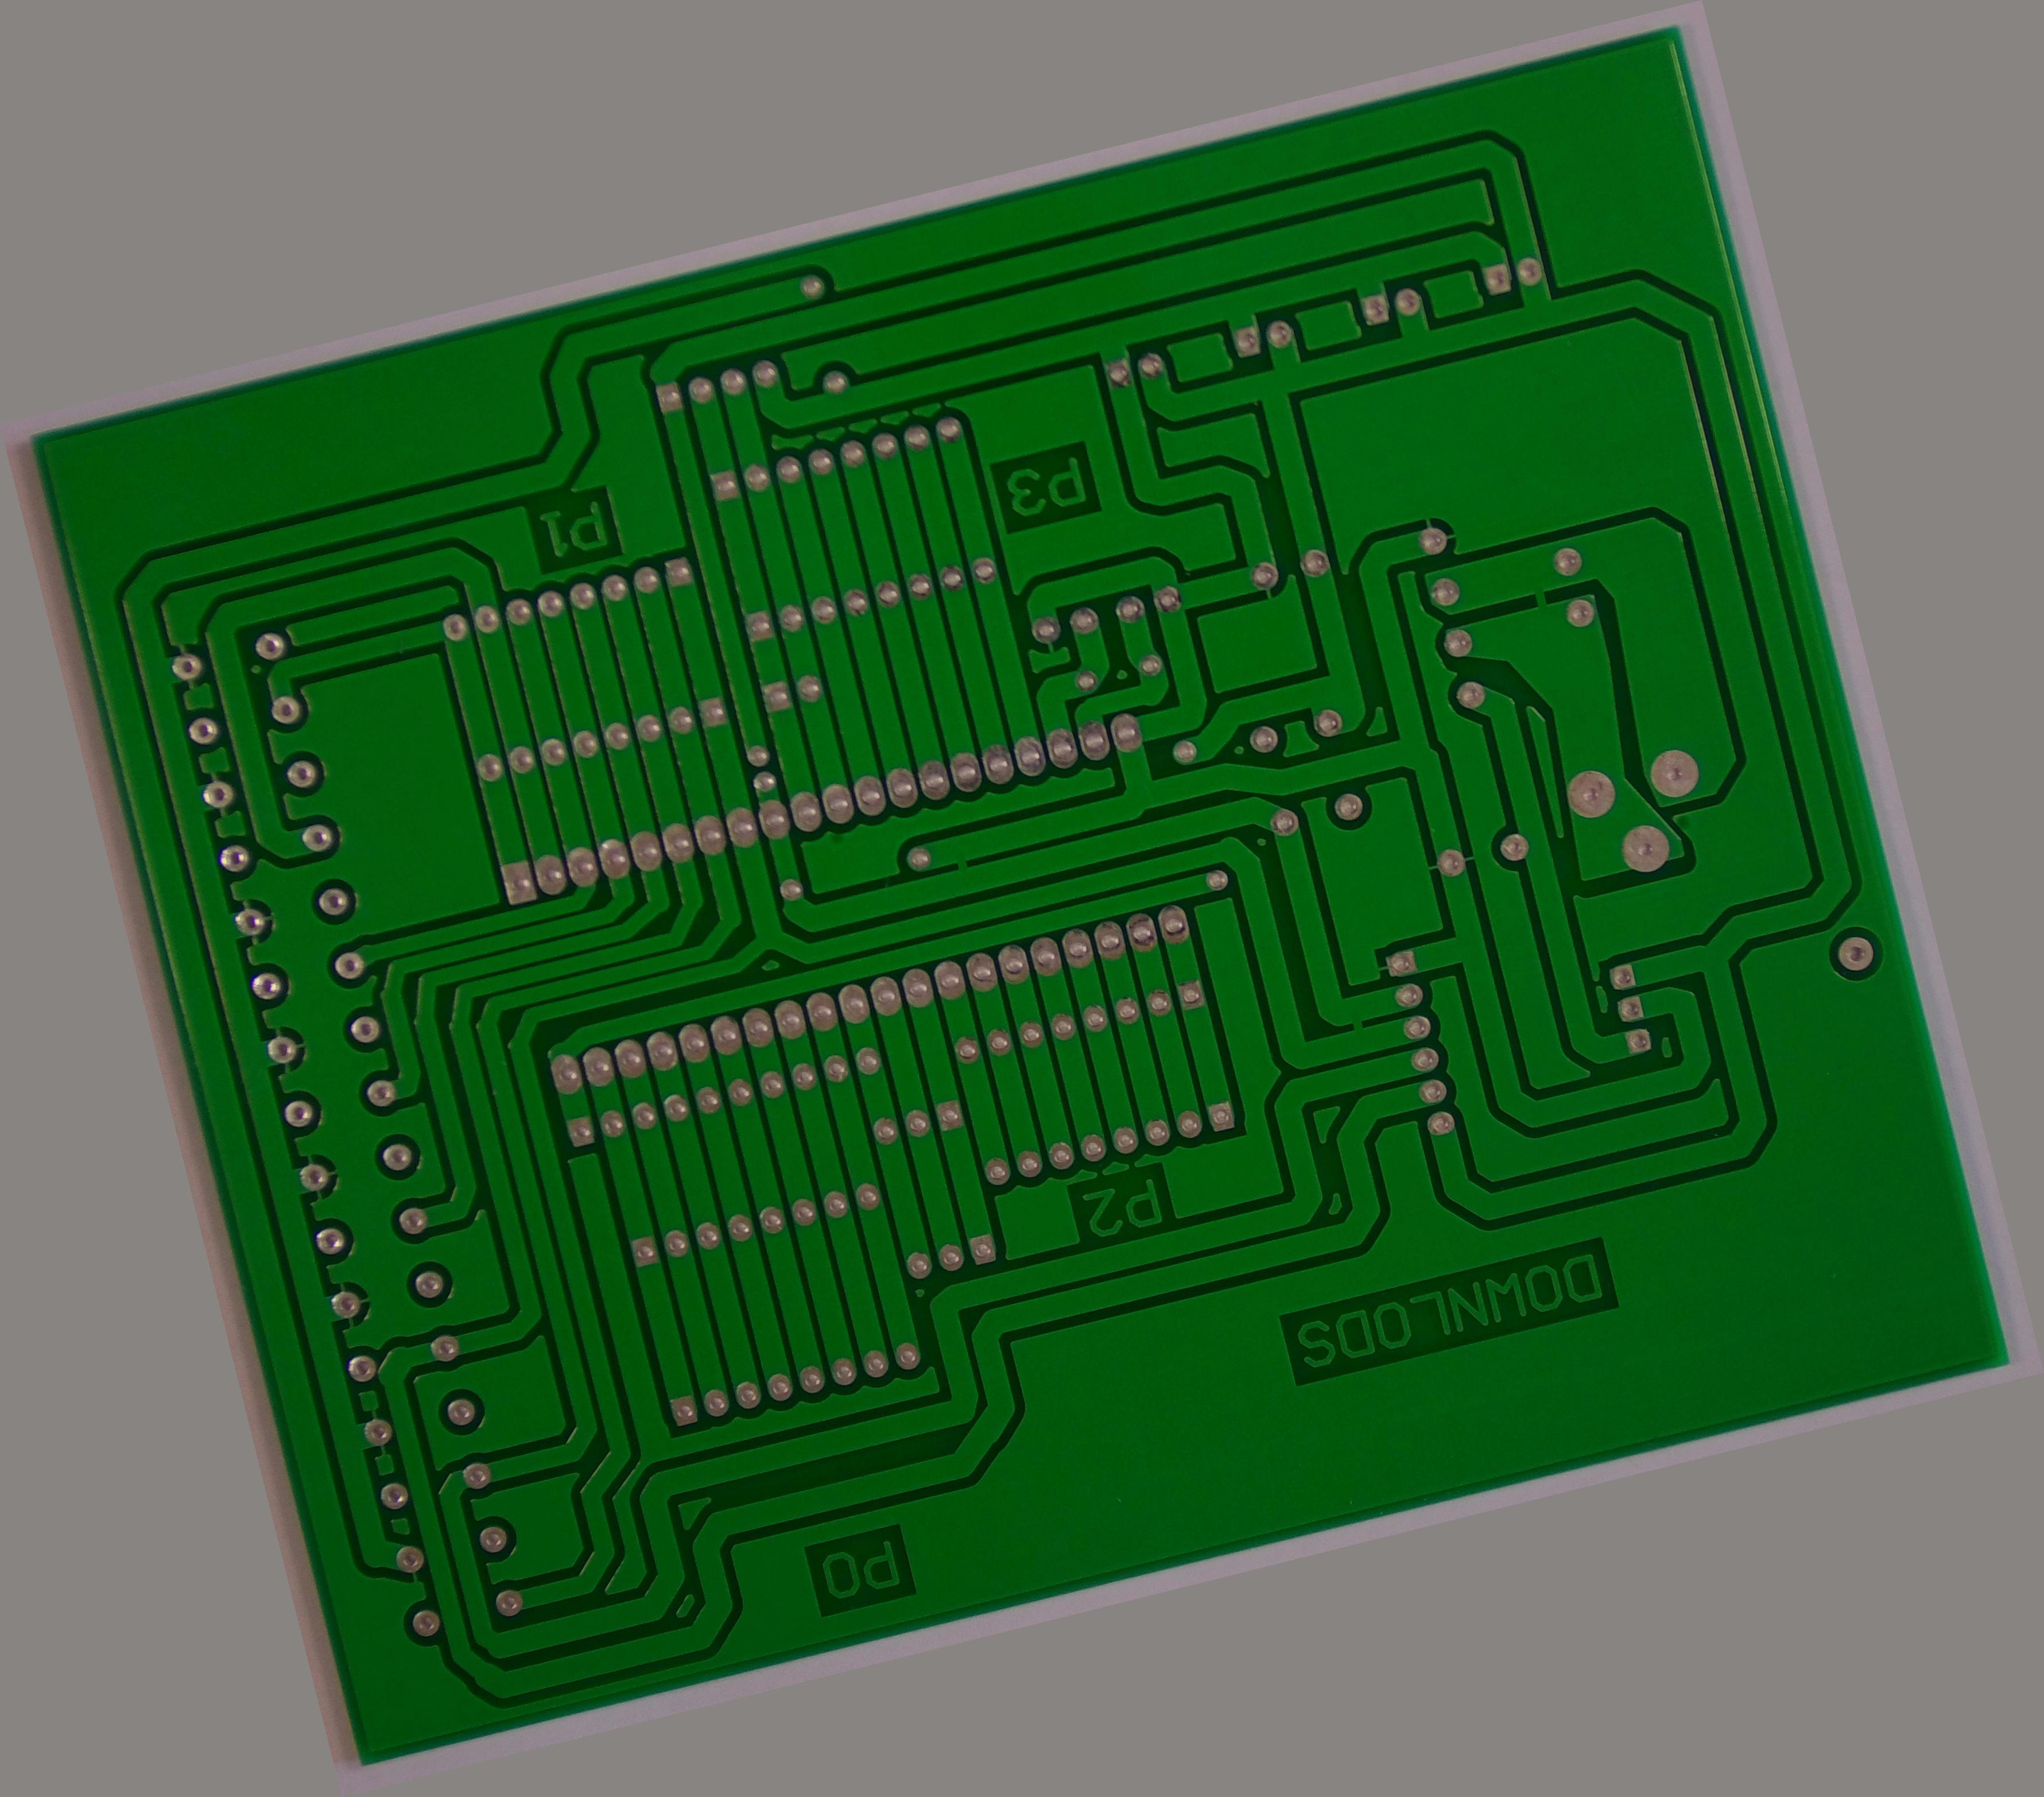short: (1509, 556, 1578, 636), (925, 824, 996, 897), (1330, 991, 1390, 1057)
